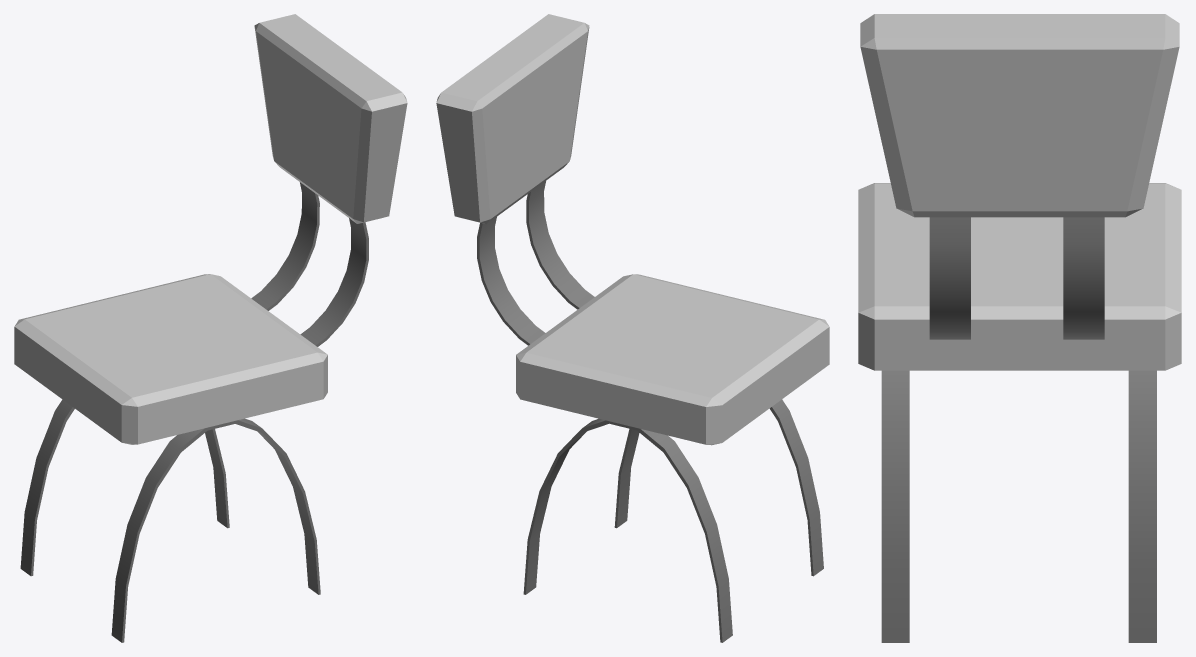
File: chair.FBX
3 renders of one model, left to right at view 1: azimuth 30°, elevation 25°; view 2: azimuth 150°, elevation 25°; view 3: azimuth 270°, elevation 25°, orthographic. The views are drawn at different scales.
Parts seen in each view (by area): view 1: Box012, Box013, Box009, Box010, Box008, Box011; view 2: Box012, Box013, Box010, Box009, Box011, Box008; view 3: Box013, Box012, Box009, Box010, Box011, Box008.
Part boxes in pixels (<box>): Box012: <box>14,274,327,444</box>; Box013: <box>254,14,407,223</box>; Box009: <box>111,418,320,642</box>; Box010: <box>20,399,229,576</box>; Box008: <box>300,218,368,346</box>; Box011: <box>251,182,319,310</box>; Box012: <box>516,274,829,445</box>; Box013: <box>436,14,589,224</box>; Box010: <box>523,418,732,642</box>; Box009: <box>614,399,823,576</box>; Box011: <box>477,217,545,345</box>; Box008: <box>526,181,594,309</box>; Box013: <box>860,14,1179,217</box>; Box012: <box>858,183,1181,370</box>; Box009: <box>881,370,909,642</box>; Box010: <box>1128,370,1156,642</box>; Box011: <box>1063,217,1104,339</box>; Box008: <box>929,217,970,339</box>.
Size of the model in its own units: 27.64 by 44.89 by 20.
